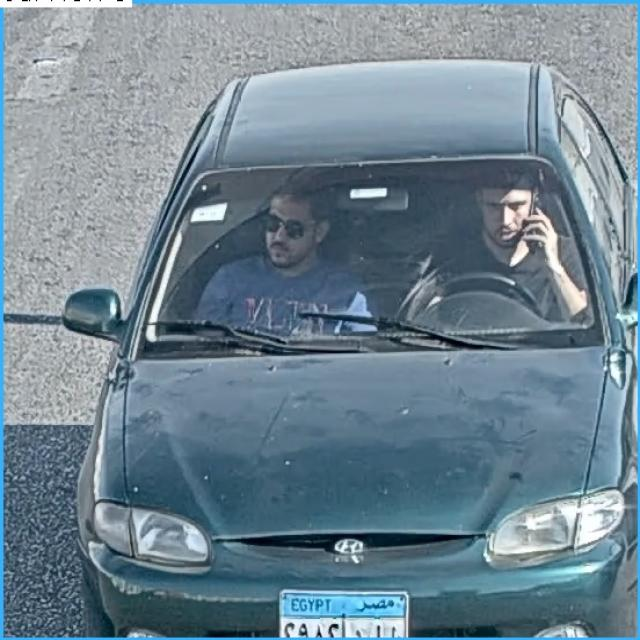windshield: (138, 153, 597, 339)
